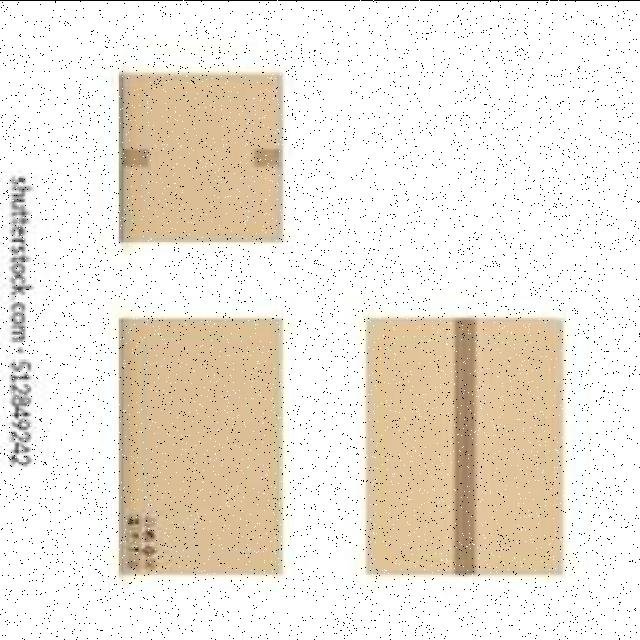normal: (360, 309, 569, 582), (110, 312, 288, 580), (114, 68, 288, 246)
